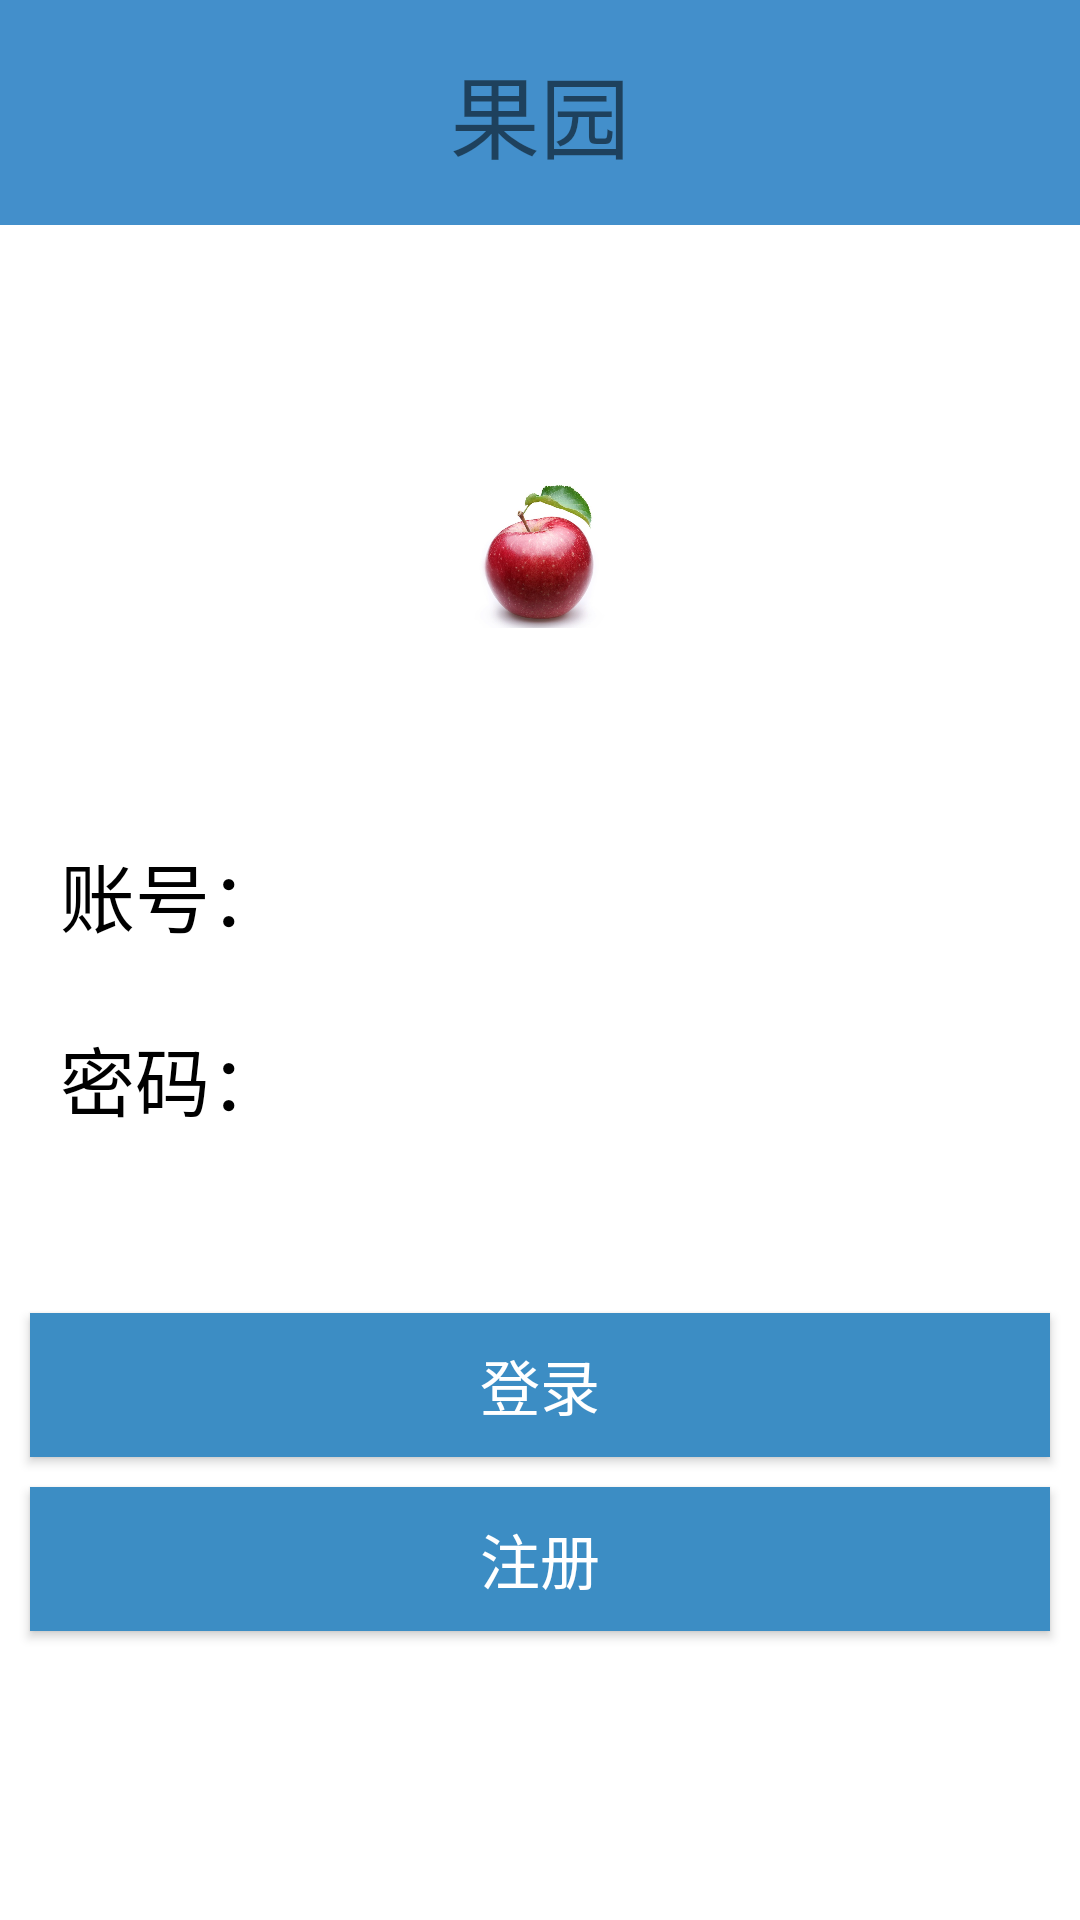

Point at icon controls on the screen. Image size 1080 x 1920, points as (x=x, y=y).
apple: (x=539, y=556)
